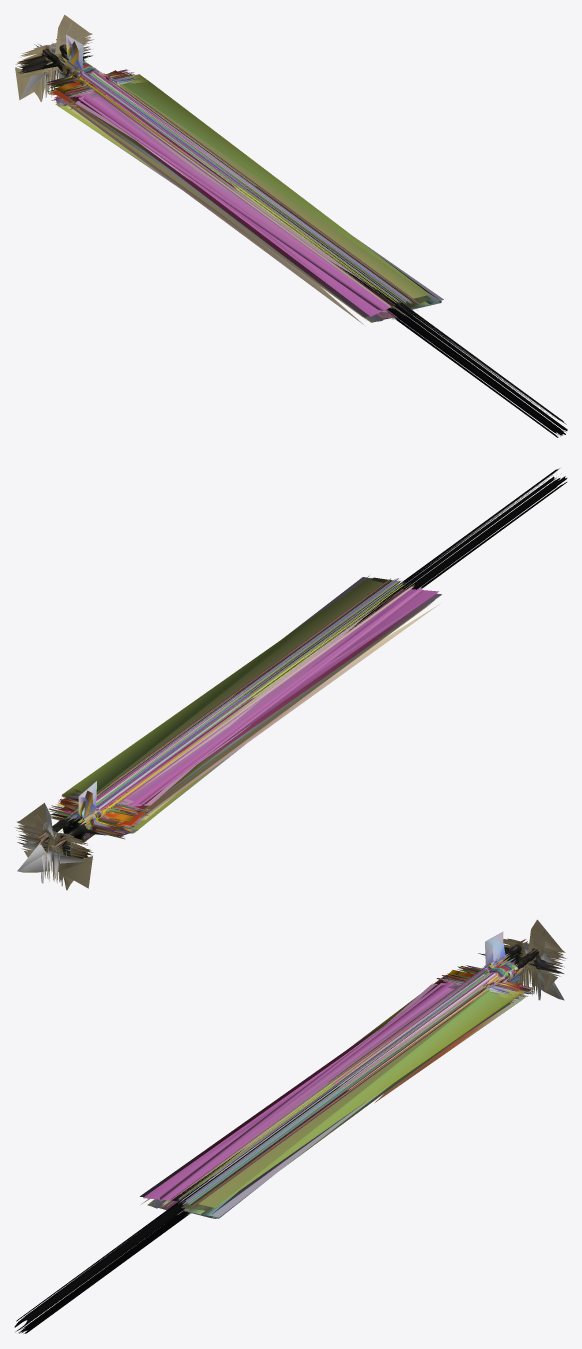
Rendered from light-g.obj.
The picture shows the model from 3 angles, top to bottom: view 1: azimuth 30°, elevation 25°; view 2: azimuth 150°, elevation 25°; view 3: azimuth 330°, elevation 25°; orthographic projection.
Bounding box in the file's own units: 29.97 × 28.86 × 330.
Materials: 8 (4 with a texture image).
